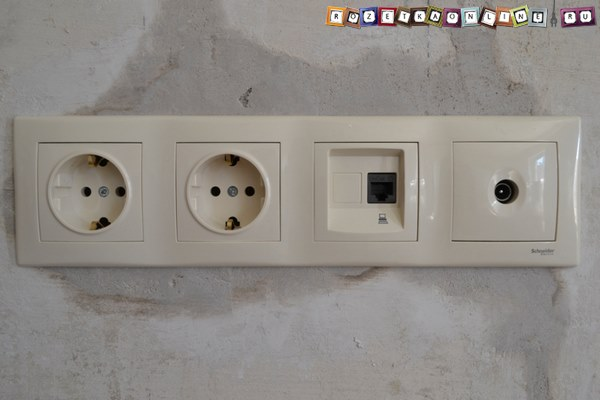raccoon: (184, 148, 270, 237), (46, 149, 131, 234)
